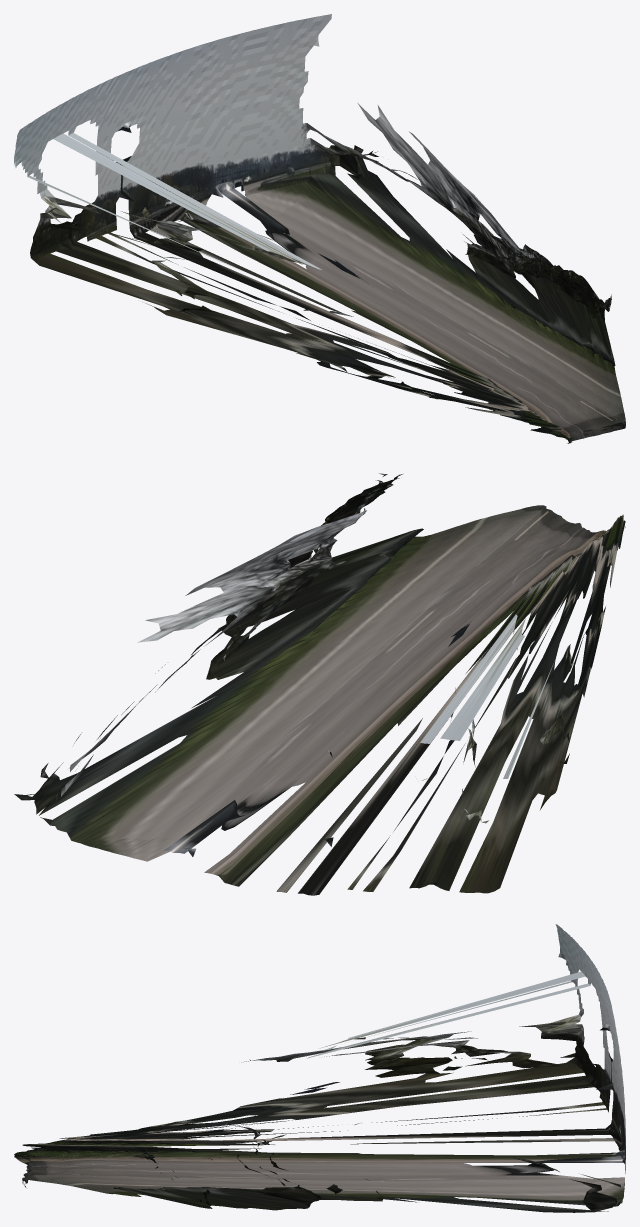
The picture shows the model from 3 angles, top to bottom: view 1: azimuth 30°, elevation 25°; view 2: azimuth 150°, elevation 25°; view 3: azimuth 270°, elevation 25°; orthographic projection. The views are drawn at different scales.
Visible parts, largest first — view 1: defaultobject; view 2: defaultobject; view 3: defaultobject.
Boxes of the visible parts, x1=… form: defaultobject: x1=14, y1=14, x2=625, y2=443; defaultobject: x1=14, y1=473, x2=625, y2=895; defaultobject: x1=14, y1=924, x2=625, y2=1212.
Size of the model in its own units: 29.05 by 12.46 by 44.96.
1 material, 1 textured.
